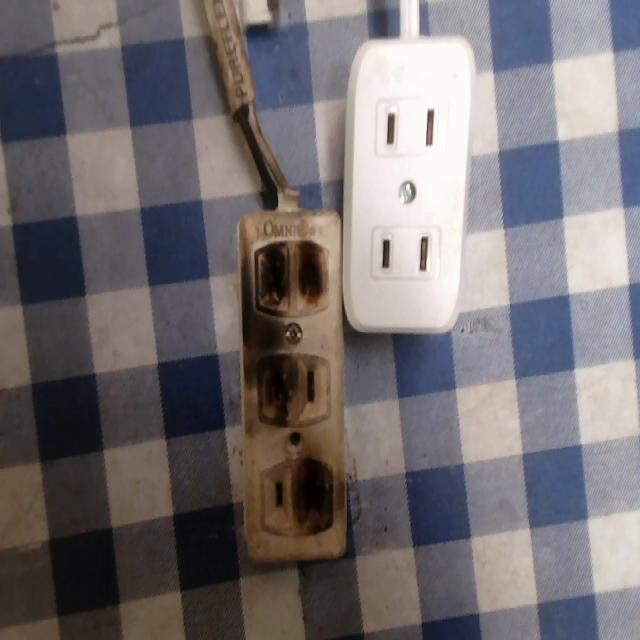-: (252, 231, 335, 324), (289, 454, 337, 558), (252, 351, 301, 420)
